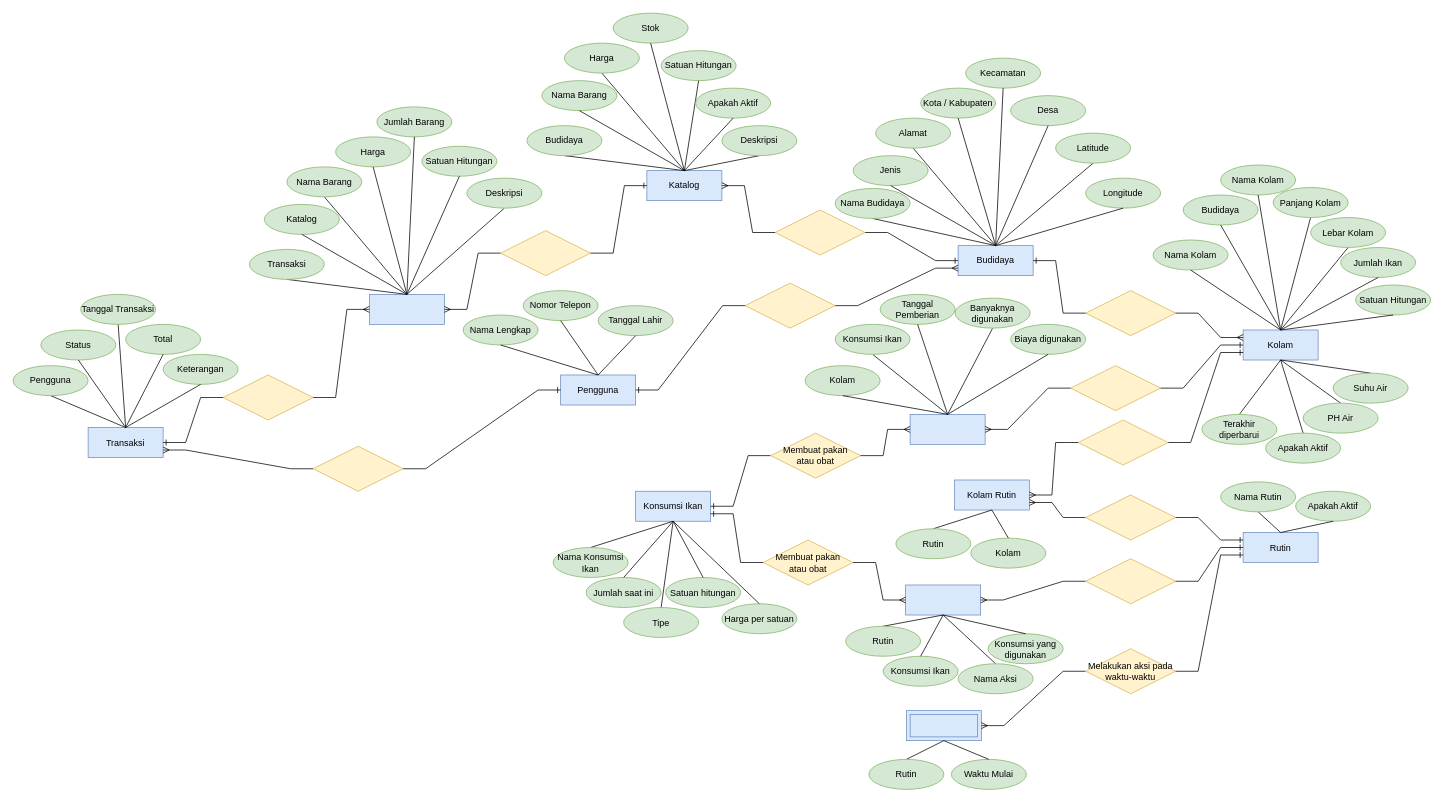
Some shapes in this 1444 by 803 pixel diagram are drawn without their labels. The shapes that lost their labels are listed below. From the top down, each one's box as (x1, y1, x2, y2) in pixels, then its label:
(774, 209, 865, 255): Grup budidaya
(500, 230, 591, 276): Melihat data barang
(369, 294, 444, 324): Detail Transaksi
(744, 282, 835, 328): Memiliki grup budidaya
(1085, 290, 1176, 336): Kelompok
(222, 374, 313, 420): Mendaftar item pada transaksi
(1070, 365, 1161, 411): Memberi pakan atau obat
(909, 414, 985, 444): Pemberian Konsumsi Ikan
(1077, 419, 1168, 465): Pilih kolam
(312, 446, 403, 491): Melakukan transaksi
(1085, 494, 1176, 540): Melakukan aksi terhadap kolam-kolam
(905, 584, 981, 615): Aksi Rutin
(1085, 558, 1176, 604): Melakukan aksi-aksi
(906, 710, 981, 741): Waktu Rutin
